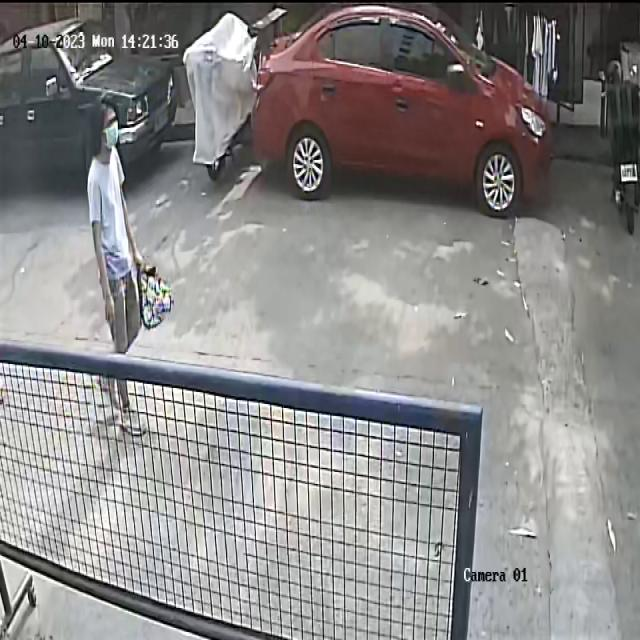garbage_dumping: (138, 248, 173, 338)
